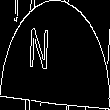N_S: (44, 28, 66, 82)
